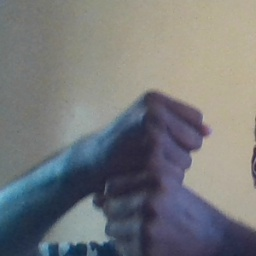G: (87, 85, 215, 255)
